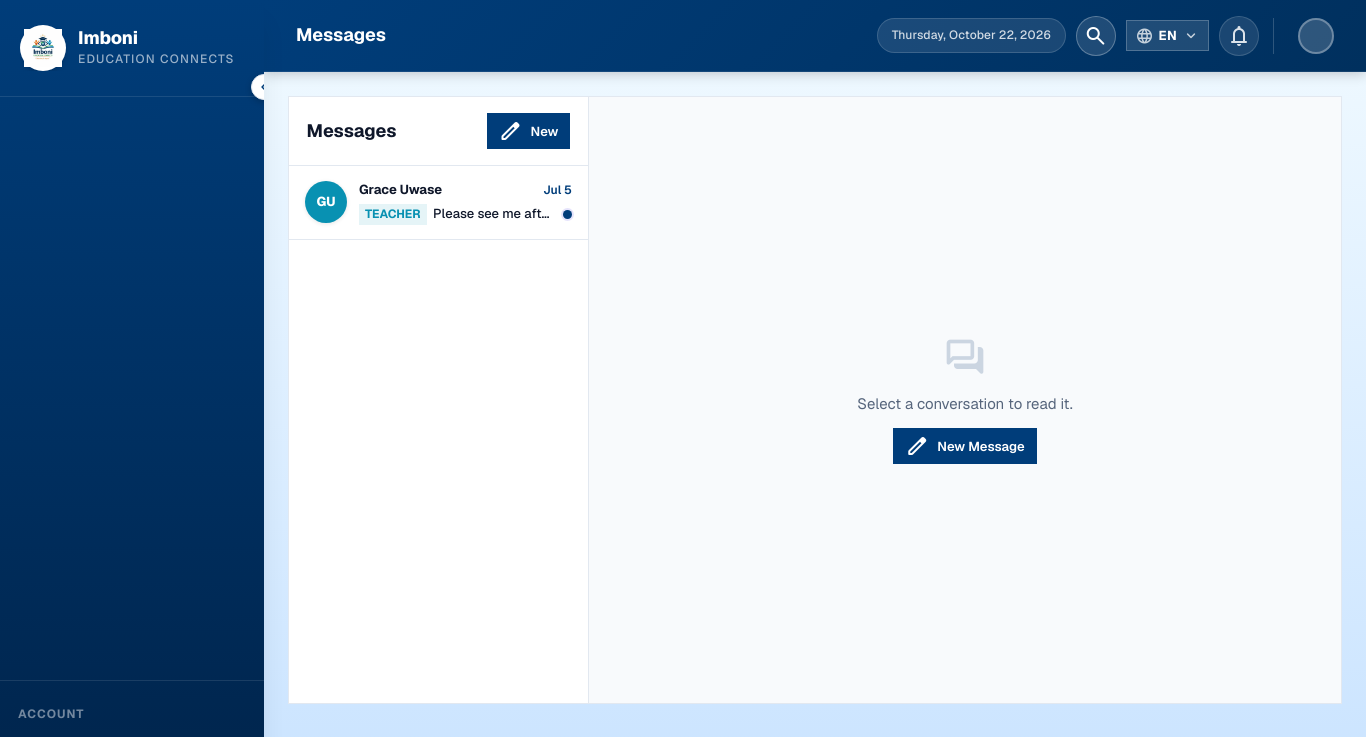
Scenario: LiveMessages: sending and arriving › takes a failed message back off and returns the text to the box
The image size is (1366, 737).
Expected: the text "Grace Uwase" is shown, [359,181,442,198]
Click the text "Please see me after class": x=495, y=214 [433,204,557,225]
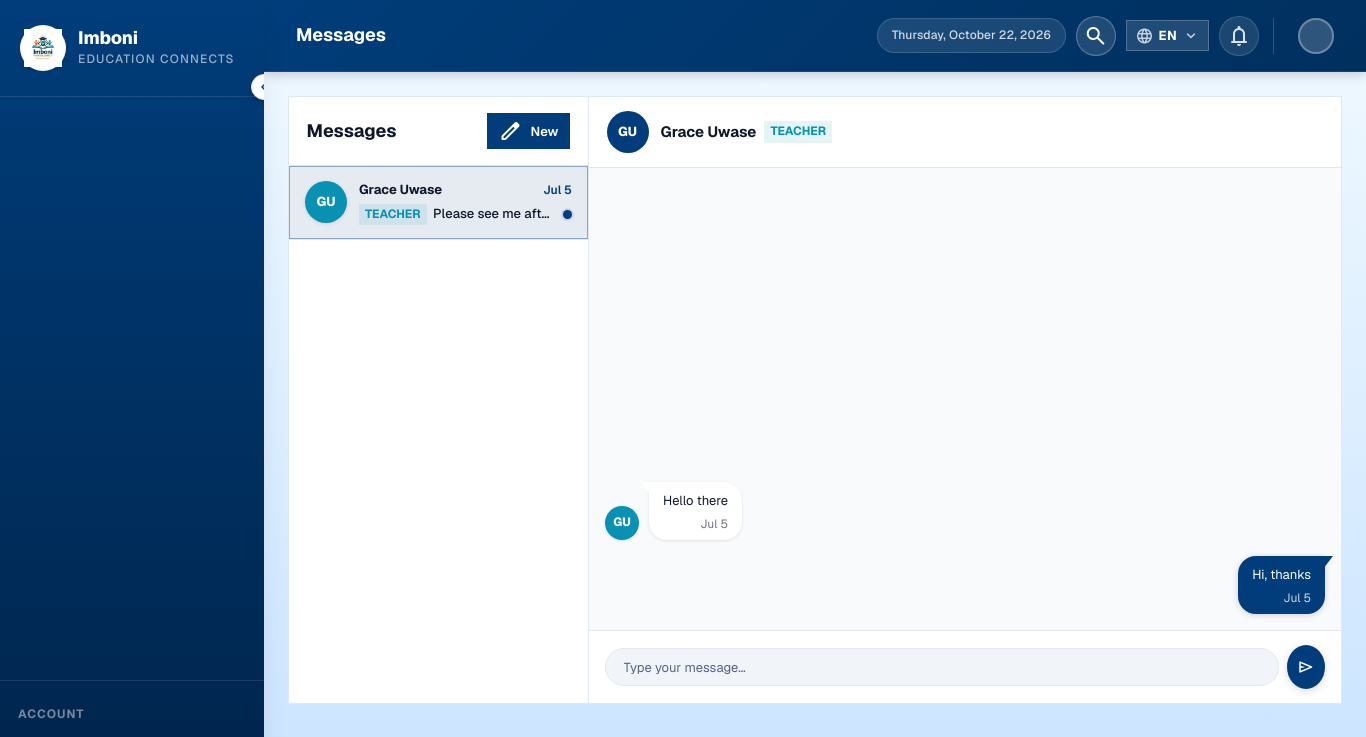
Expected: the text "Hello there" is shown, [663,490,728,511]
In the field with placeholder "Type your message…": x=942, y=667 [605,648,1279,686], type "Lost words"
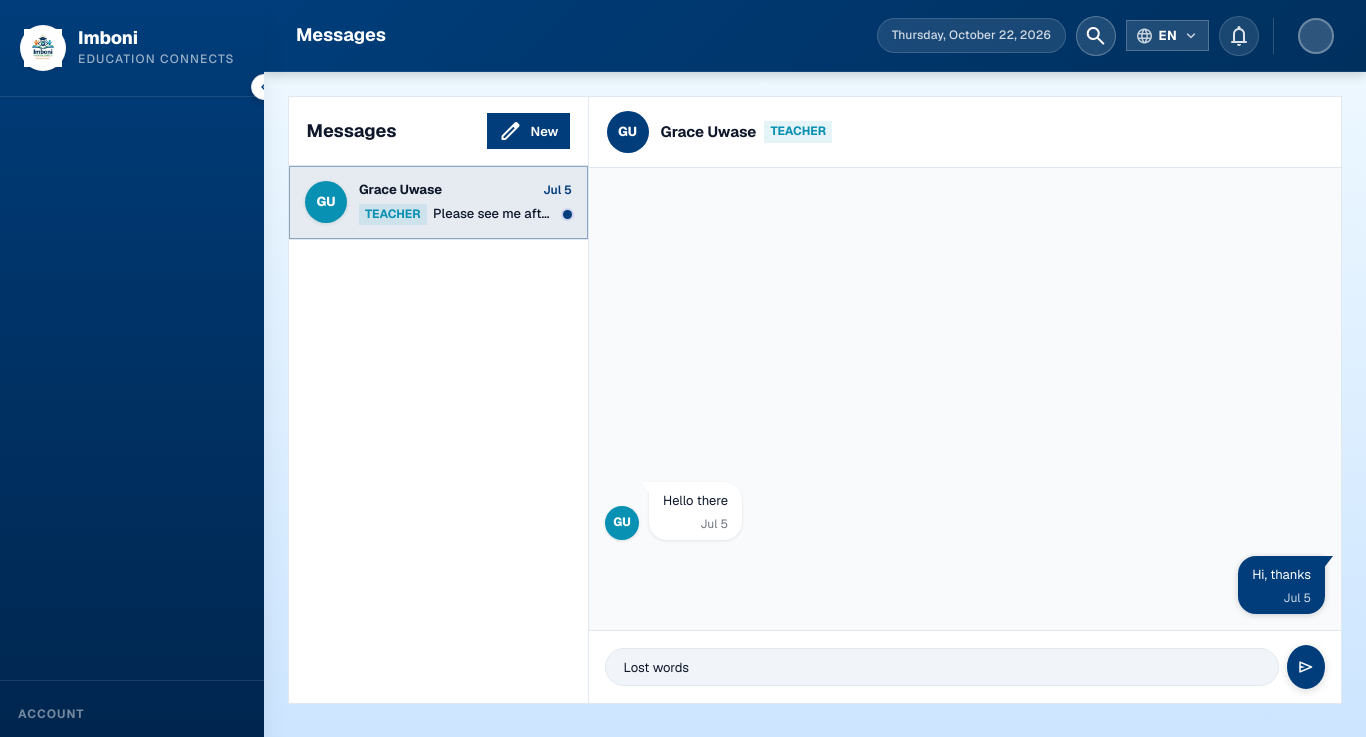
Click the button named "Send": x=1306, y=667 [1287,645,1325,689]
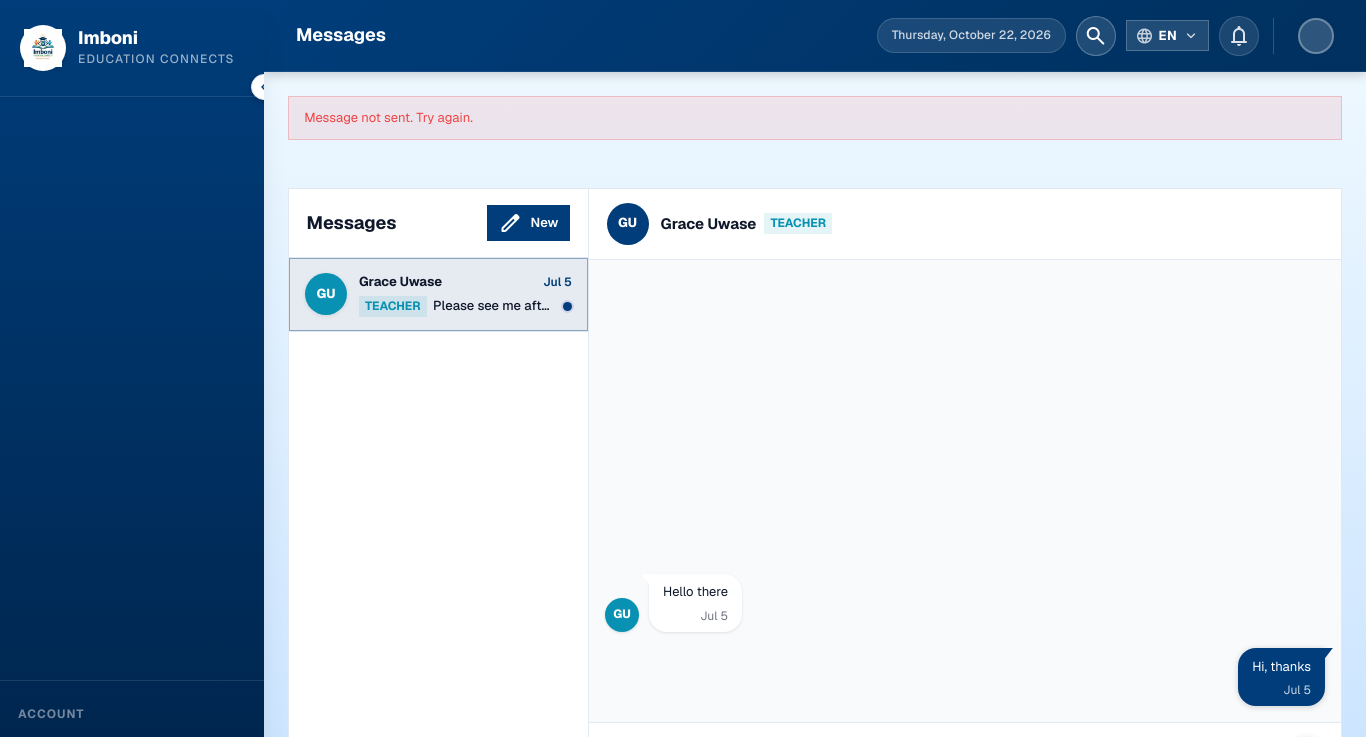
Expected: the text "Message not sent. Try again." is shown, [288,96,1342,140]
